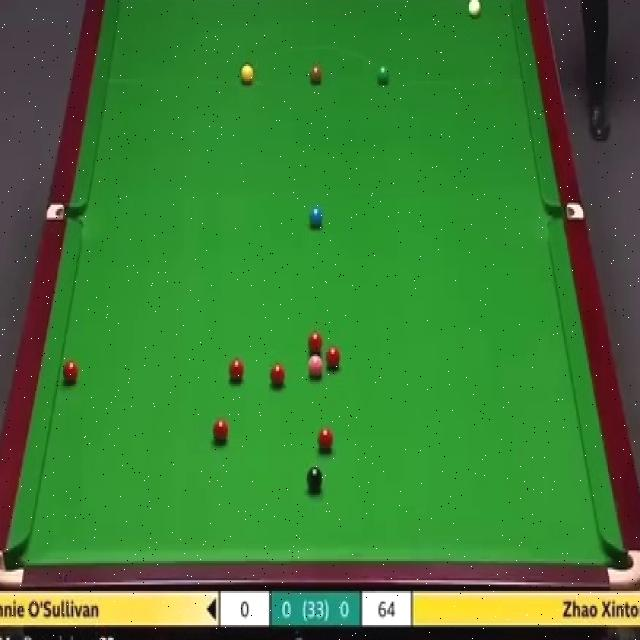black-ball: (306, 467, 322, 491)
blue-ball: (309, 207, 322, 231)
brown-ball: (309, 65, 324, 84)
green-ball: (376, 62, 391, 86)
pink-ball: (306, 356, 324, 377)
red-ball: (227, 358, 245, 384), (213, 419, 230, 446), (62, 359, 78, 384), (317, 428, 334, 451), (270, 363, 286, 387), (326, 345, 340, 370), (308, 332, 323, 353)
white-ball: (469, 0, 479, 19)
yellow-ball: (239, 61, 256, 86)
